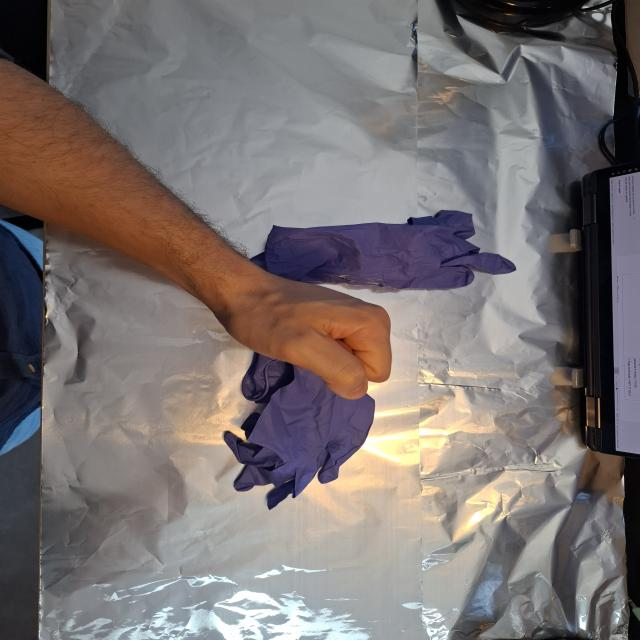glove_off: (200, 260, 394, 401)
